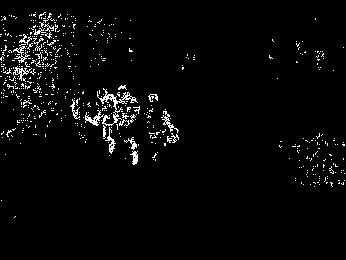person: (145, 90, 179, 163), (115, 83, 142, 168), (91, 87, 119, 160)
